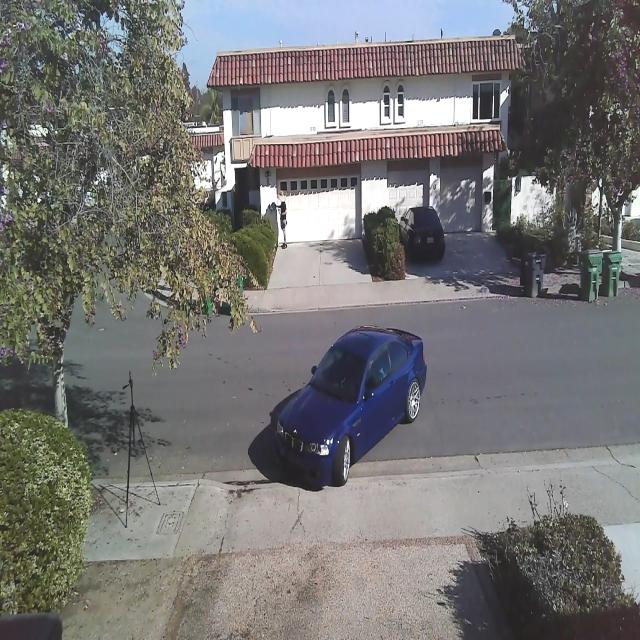Carbeetle: (260, 321, 442, 498)
Civilian: (399, 205, 445, 263)
